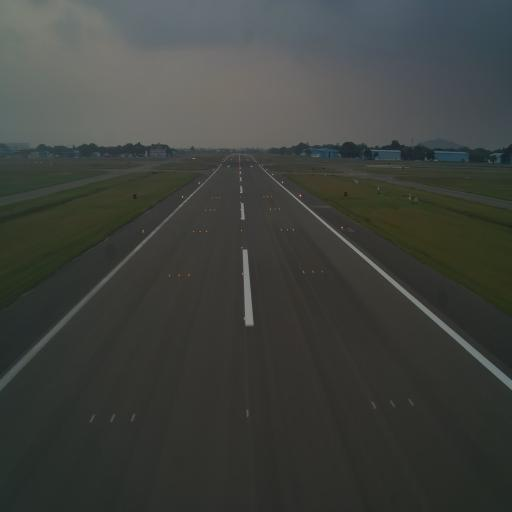on: (245, 409, 250, 418), (243, 316, 247, 324), (140, 228, 145, 234), (340, 225, 344, 231), (320, 268, 324, 273), (240, 228, 243, 234), (168, 274, 172, 278), (178, 272, 180, 280), (302, 269, 305, 274), (292, 228, 295, 233), (242, 271, 244, 278), (312, 270, 314, 276), (192, 230, 195, 234), (286, 228, 289, 232), (188, 273, 190, 277), (199, 229, 201, 233), (205, 230, 207, 234), (241, 246, 243, 250), (280, 228, 282, 232)
